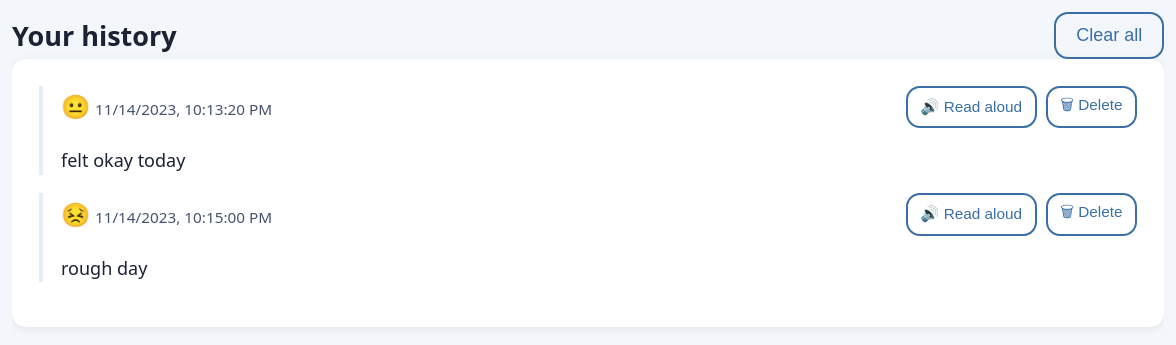
it: HistoryList — privacy controls › cancelling the clear confirmation does nothing
Step 1. Click the button "Clear all" → coordinates (1109, 35), box left=1054, top=12, right=1164, bottom=59
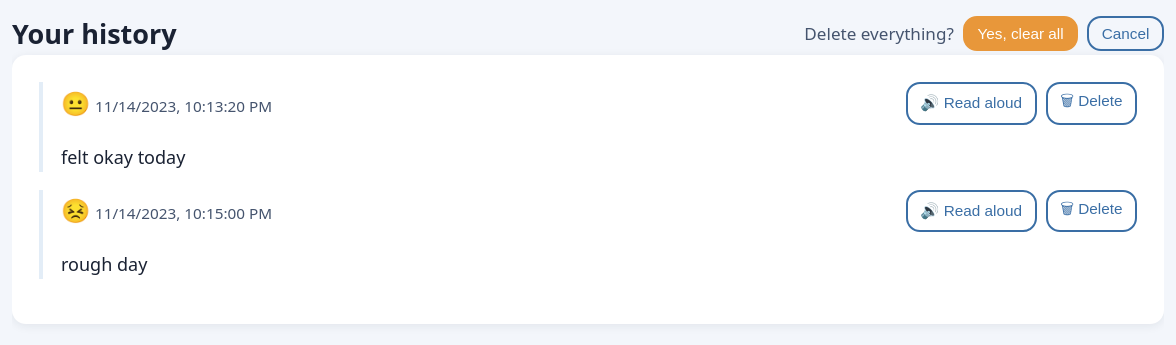
Step 2. Click the button "Cancel" → coordinates (1126, 34), box left=1087, top=16, right=1164, bottom=51
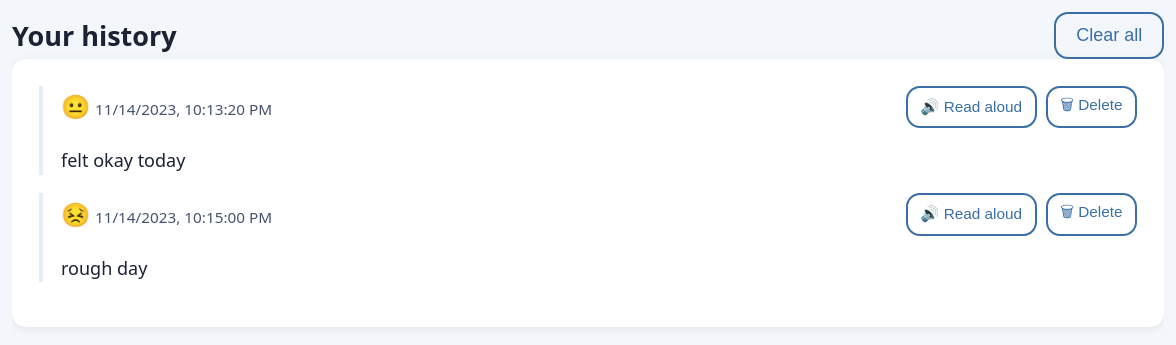
Expected: the button "Clear all" is shown, left=1054, top=12, right=1164, bottom=59
